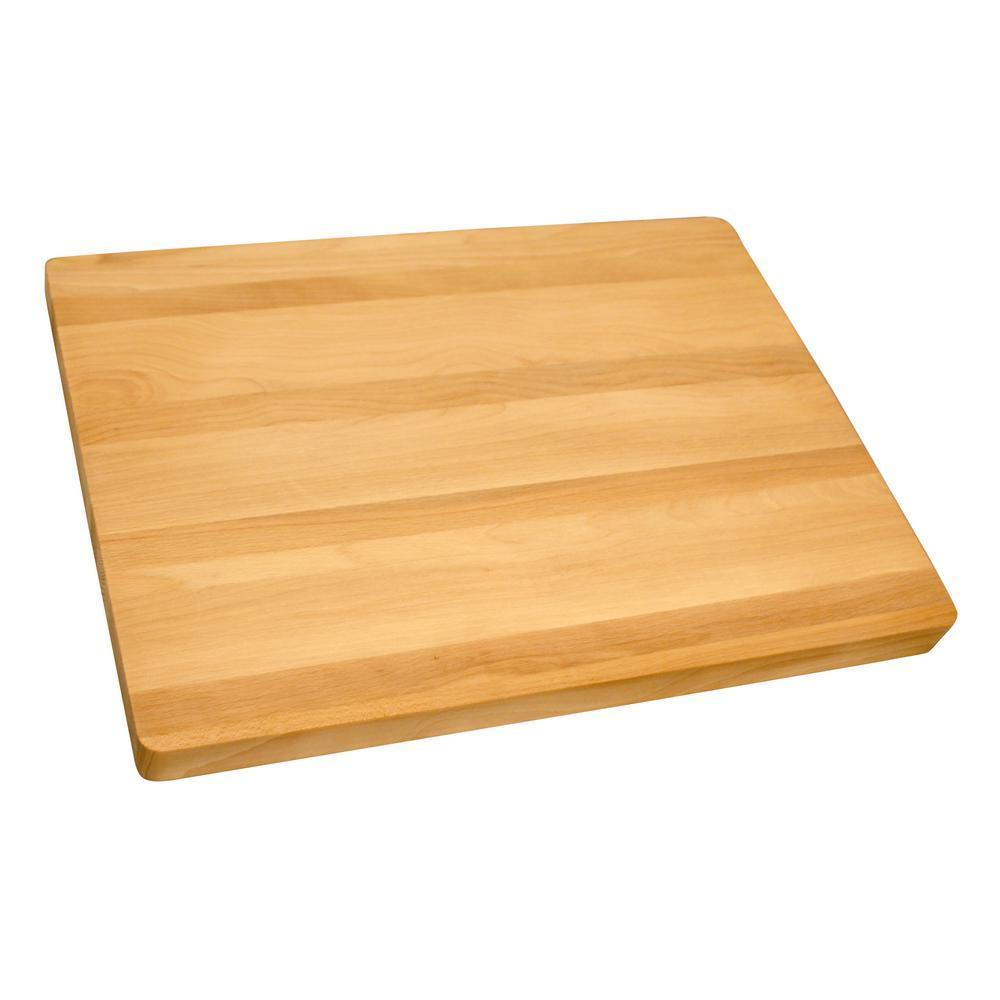gloved_hand: (33, 206, 955, 785)
